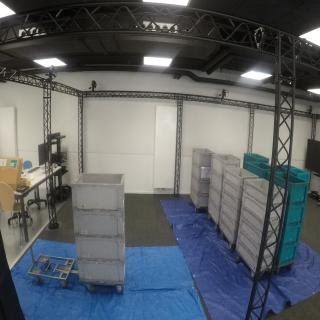Box4G: (72, 173, 127, 214), (73, 204, 128, 241), (76, 253, 130, 285), (75, 231, 129, 262), (213, 153, 239, 182), (193, 147, 216, 170), (190, 191, 210, 216), (192, 166, 213, 185), (207, 170, 223, 194), (209, 185, 223, 212), (191, 180, 213, 197), (208, 200, 220, 229)
BoxB4: (271, 171, 312, 205), (274, 242, 301, 273), (278, 223, 304, 247), (283, 206, 308, 230), (246, 162, 273, 179), (244, 151, 270, 165)
